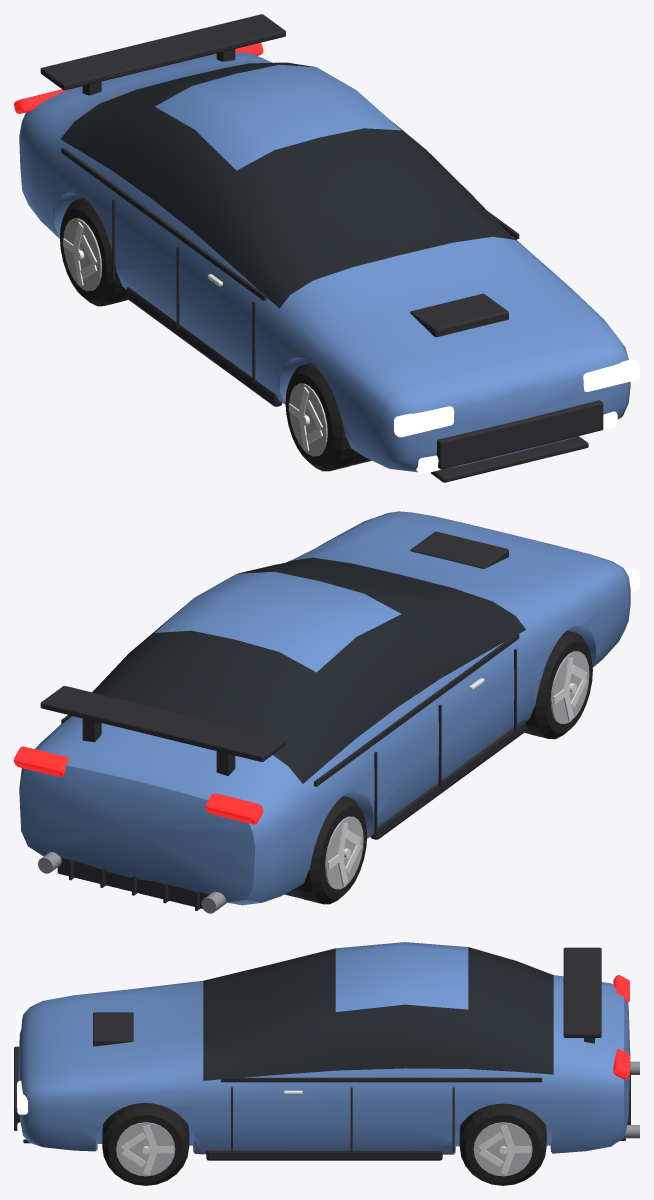
File: evo.glb
3 renders of one model, top to bottom at view 1: azimuth 30°, elevation 25°; view 2: azimuth 150°, elevation 25°; view 3: azimuth 270°, elevation 25°, orthographic. The views are drawn at different scales.
Parts seen in each view (by area): view 1: body, wing, intake, wheel_fr, wheel_rr, scoop, light_f, sill, splitter, belt_trim, light_r; view 2: body, wing, wheel_fr, wheel_rr, light_r, scoop, sill, diffuser, belt_trim; view 3: body, wheel_fl, wheel_rl, wing, sill, belt_trim, scoop, light_r, light_f, intake.
Part boxes in pixels (x1,y1,x2,y2): body: [19, 52, 630, 472]; wing: [40, 14, 285, 90]; intake: [436, 400, 603, 469]; wheel_fr: [285, 362, 359, 471]; wheel_rr: [60, 198, 126, 306]; scoop: [410, 293, 508, 337]; light_f: [394, 359, 639, 437]; sill: [127, 287, 282, 406]; splitter: [431, 436, 588, 482]; belt_trim: [61, 147, 519, 300]; light_r: [14, 42, 263, 113]; body: [19, 511, 630, 905]; wing: [40, 686, 285, 761]; wheel_fr: [525, 630, 592, 739]; wheel_rr: [294, 796, 367, 904]; light_r: [14, 746, 263, 824]; scoop: [410, 531, 508, 568]; sill: [370, 719, 525, 839]; diffuser: [57, 857, 209, 908]; belt_trim: [61, 633, 519, 786]; body: [18, 942, 630, 1154]; wheel_fl: [102, 1103, 189, 1185]; wheel_rl: [459, 1103, 546, 1185]; wing: [563, 947, 601, 1037]; sill: [206, 1150, 442, 1160]; belt_trim: [221, 1077, 541, 1082]; scoop: [93, 1012, 133, 1046]; light_r: [613, 975, 629, 1079]; light_f: [17, 1008, 28, 1114]; intake: [14, 1046, 20, 1130].
Bounding box in the file's own units: 1.82 × 1.43 × 4.61.
